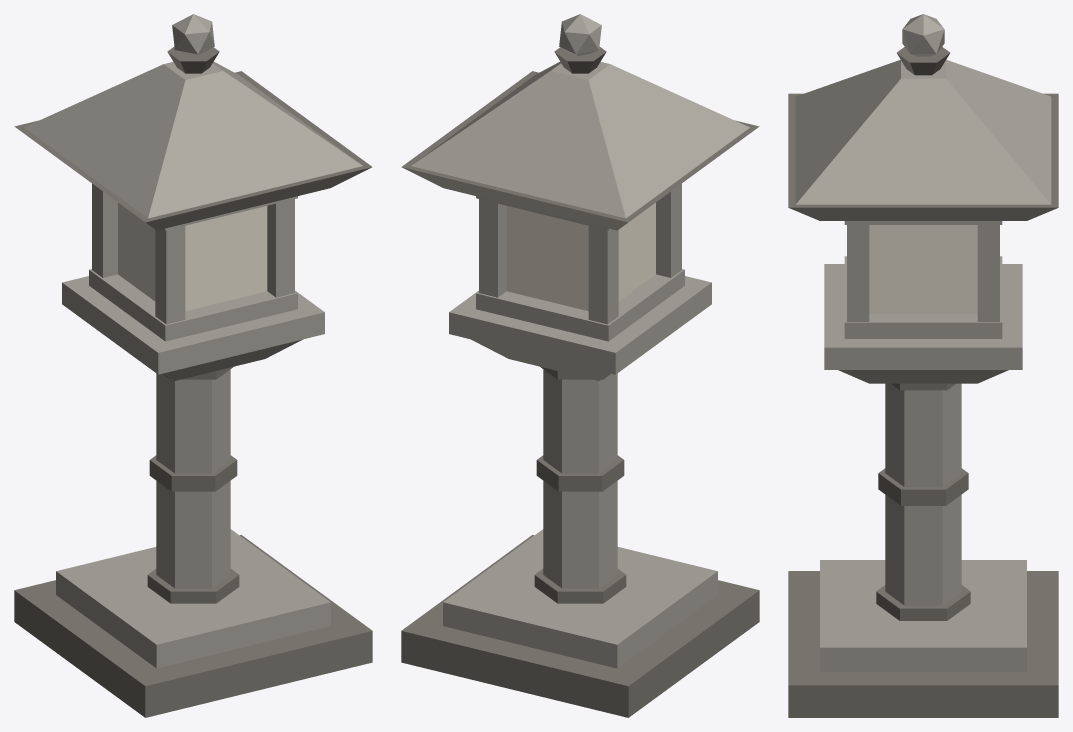
Rendered from sakura_garden_lantern_stone.glb.
3 views of the same model, side by side, from view 1: azimuth 30°, elevation 25°; view 2: azimuth 150°, elevation 25°; view 3: azimuth 270°, elevation 25° (orthographic). The views are drawn at different scales.
Visible parts, largest first — view 1: sakura_garden_lantern_stone; view 2: sakura_garden_lantern_stone; view 3: sakura_garden_lantern_stone.
Boxes of the visible parts, <box> form: sakura_garden_lantern_stone: <box>14,14,372,717</box>; sakura_garden_lantern_stone: <box>401,14,759,717</box>; sakura_garden_lantern_stone: <box>788,14,1058,717</box>.
Size of the model in its own units: 0.6 by 1.58 by 0.6.
1 material, 1 textured.
